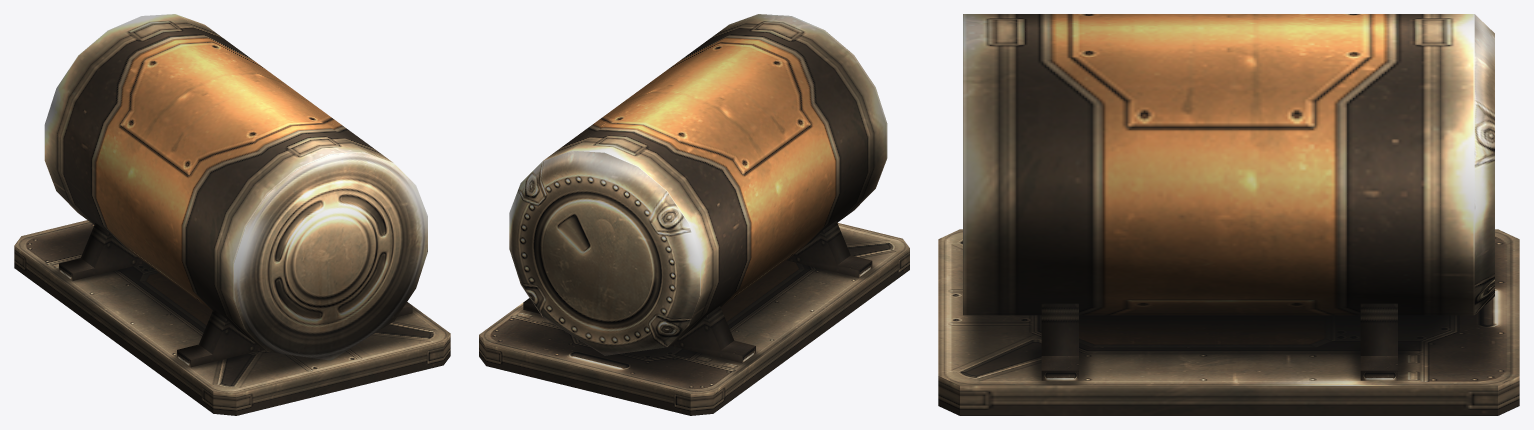
File: mprw_tank.FBX
3 views of the same model, side by side, from view 1: azimuth 30°, elevation 25°; view 2: azimuth 150°, elevation 25°; view 3: azimuth 270°, elevation 25° (orthographic). The views are drawn at different scales.
Parts seen in each view (by area): view 1: mprw_tank; view 2: mprw_tank; view 3: mprw_tank.
Boxes of the visible parts, x1,y1,x2,y2 form: mprw_tank: [14, 14, 450, 415]; mprw_tank: [479, 14, 909, 415]; mprw_tank: [938, 14, 1519, 415].
Bounding box in the file's own units: 289 × 267 × 454.
1 material, 1 textured.
